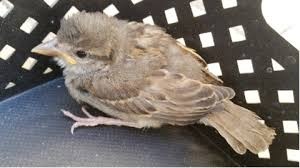hsparrow: (29, 7, 280, 155)
